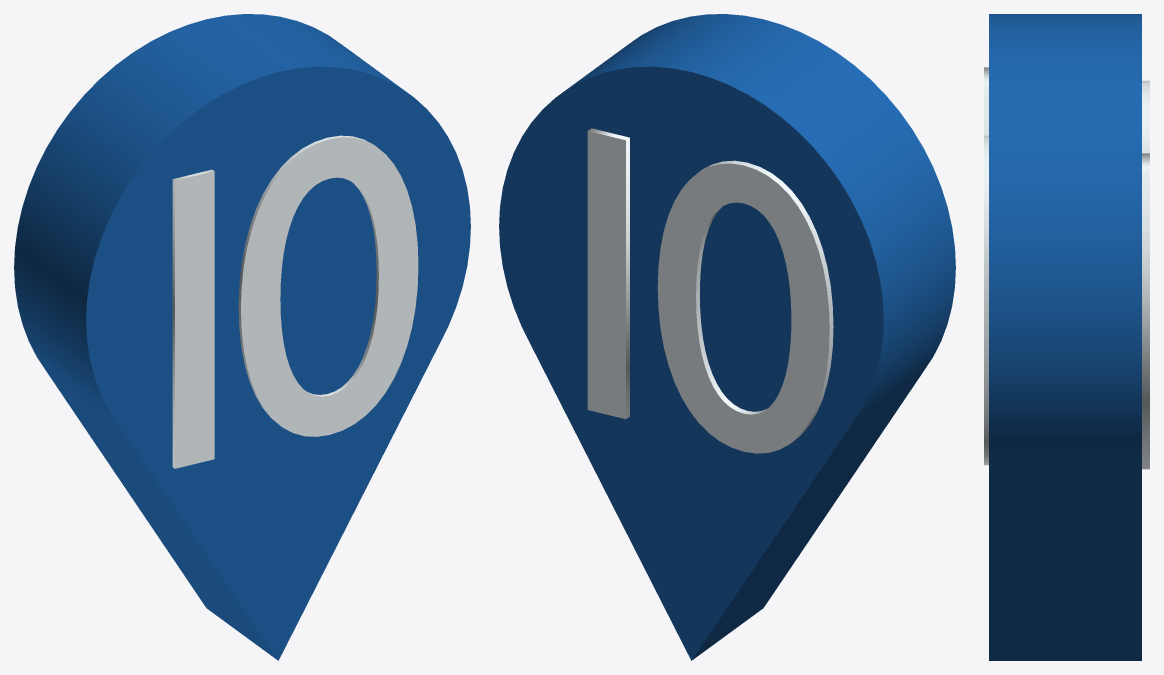
File: ryou_point.glb
3 views of the same model, side by side, from view 1: azimuth 30°, elevation 25°; view 2: azimuth 150°, elevation 25°; view 3: azimuth 270°, elevation 25° (orthographic). The views are drawn at different scales.
Parts seen in each view (by area): view 1: 円.009, テキスト.018, テキスト.020; view 2: 円.009, テキスト.017, テキスト.019; view 3: 円.009, テキスト.019, テキスト.018, テキスト.017, テキスト.020.
Part boxes in pixels (left/top/right/bottom): 円.009: left=14, top=14, right=470, bottom=660; テキスト.018: left=238, top=135, right=418, bottom=436; テキスト.020: left=172, top=169, right=214, bottom=468; 円.009: left=499, top=14, right=955, bottom=660; テキスト.017: left=657, top=160, right=833, bottom=453; テキスト.019: left=587, top=128, right=629, bottom=419; 円.009: left=989, top=14, right=1141, bottom=660; テキスト.019: left=1142, top=153, right=1149, bottom=469; テキスト.018: left=984, top=135, right=988, bottom=465; テキスト.017: left=1142, top=80, right=1149, bottom=153; テキスト.020: left=984, top=67, right=988, bottom=135.
Bounding box in the file's own units: 2 × 2.92 × 0.7033.
5 materials, 5 textured.
